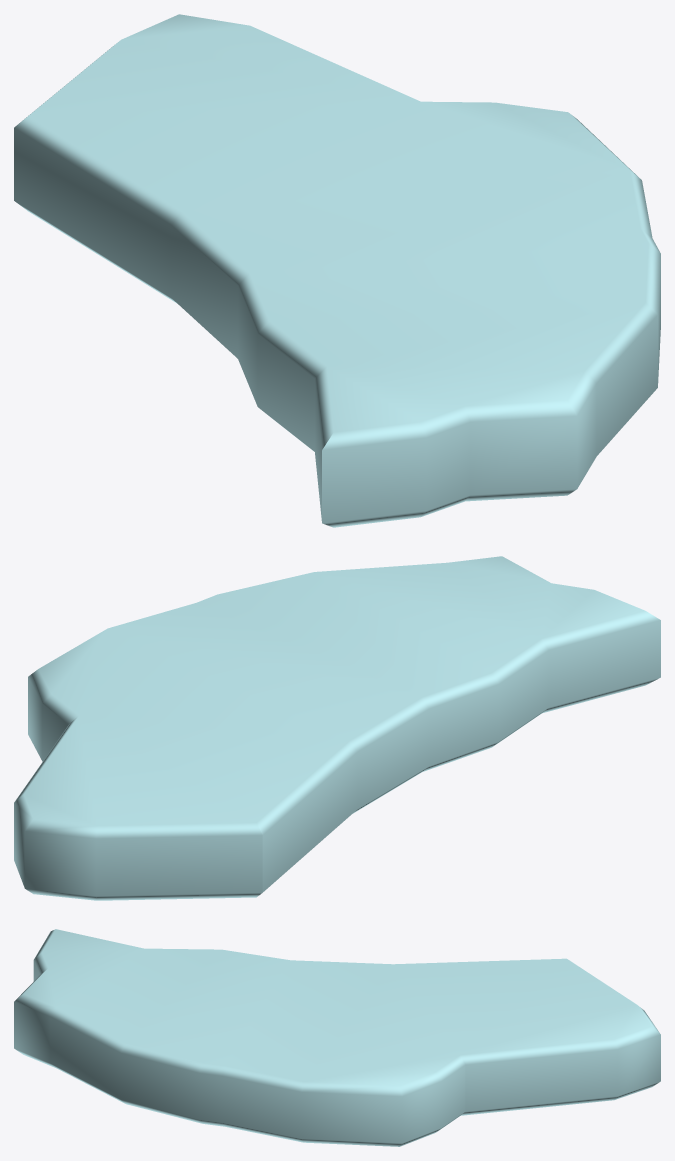
The model's file is ice_floe_medium_005.fbx.
3 renders of one model, top to bottom at view 1: azimuth 30°, elevation 25°; view 2: azimuth 150°, elevation 25°; view 3: azimuth 270°, elevation 25°, orthographic. The views are drawn at different scales.
Visible parts, largest first — view 1: ice_floe_medium_005; view 2: ice_floe_medium_005; view 3: ice_floe_medium_005.
Boxes of the visible parts, box(x1,y1,x2,y2) form: ice_floe_medium_005: box(14, 14, 660, 527); ice_floe_medium_005: box(14, 556, 660, 900); ice_floe_medium_005: box(14, 929, 660, 1146).
Bounding box in the file's own units: 521 × 862 × 89.44.
